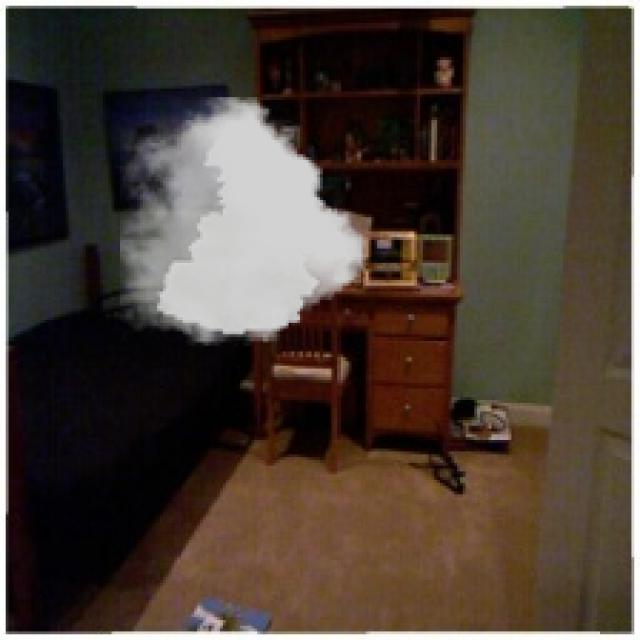smoke: (120, 97, 366, 346)
